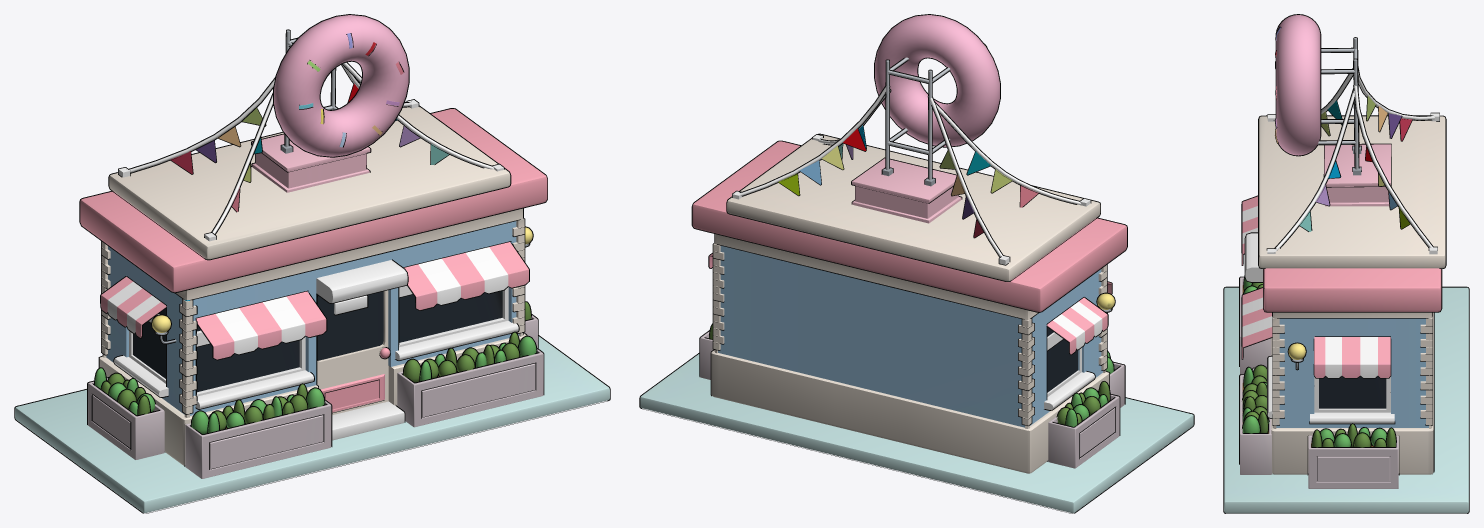
Rendered from banhmy.glb.
3 views of the same model, side by side, from view 1: azimuth 30°, elevation 25°; view 2: azimuth 150°, elevation 25°; view 3: azimuth 270°, elevation 25° (orthographic). The views are drawn at different scales.
Visible parts, largest first — view 1: Shop_Base, Roof, Floor, Pots, Awning, Outline, Donut, Flags_Albedo_0, Door_Albedo_0, Plants_Albedo_0, Stair; view 2: Shop_Base, Roof, Floor, Flags_Albedo_0, Donut, Outline, Pots, Awning, Plants_Albedo_0; view 3: Shop_Base, Roof, Floor, Outline, Flags_Albedo_0, Pots, Donut, Awning, Plants_Albedo_0.
Boxes of the visible parts, x1,y1,x2,y2 form: Shop_Base: (80, 109, 547, 465); Roof: (109, 106, 510, 259); Floor: (15, 336, 609, 512); Pots: (88, 315, 543, 478); Awning: (101, 242, 528, 359); Outline: (14, 14, 610, 513); Donut: (274, 15, 408, 156); Flags_Albedo_0: (118, 30, 503, 241); Door_Albedo_0: (317, 290, 389, 414); Plants_Albedo_0: (95, 302, 536, 434); Stair: (332, 401, 404, 440); Shop_Base: (692, 141, 1126, 473); Roof: (727, 134, 1100, 281); Floor: (640, 354, 1193, 513); Flags_Albedo_0: (732, 57, 1090, 264); Donut: (875, 15, 999, 146); Outline: (639, 14, 1194, 513); Pots: (700, 331, 1124, 468); Awning: (709, 254, 1111, 354); Plants_Albedo_0: (709, 325, 1113, 426); Shop_Base: (1263, 268, 1441, 474); Roof: (1259, 116, 1445, 268); Floor: (1224, 287, 1468, 513); Outline: (1223, 14, 1469, 513); Flags_Albedo_0: (1267, 38, 1439, 254); Pots: (1240, 277, 1398, 488); Donut: (1275, 15, 1320, 155); Awning: (1242, 196, 1390, 377); Plants_Albedo_0: (1242, 278, 1395, 447).
Bounding box in the file's own units: 6.41 × 5.38 × 3.1.
Materials: 2 (1 with a texture image).
